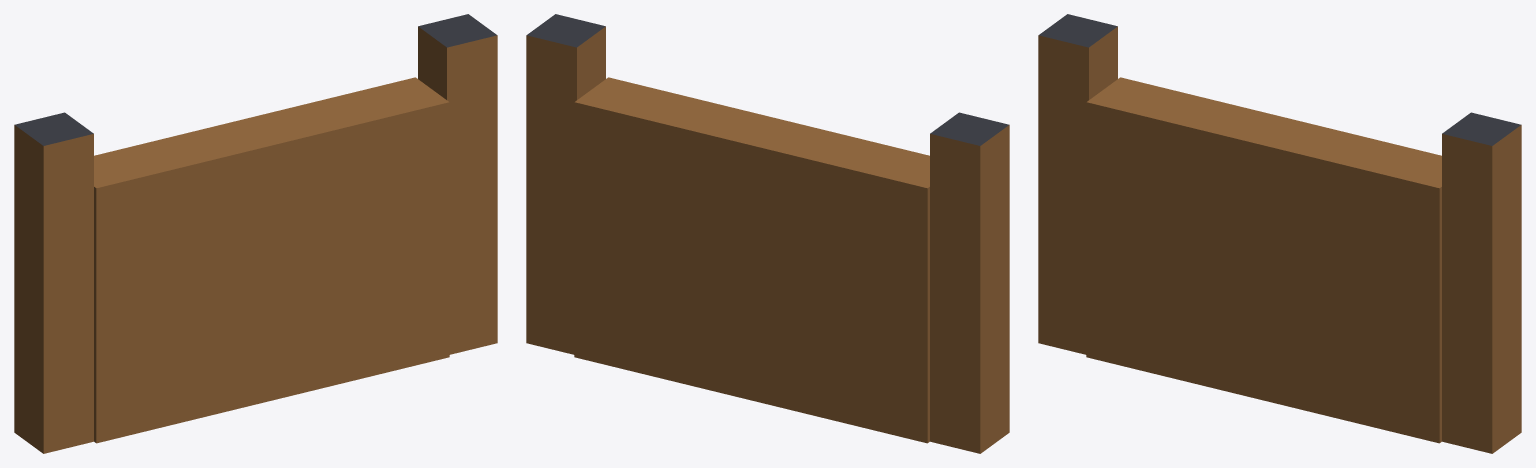
The model's file is env_door.glb.
The picture shows the model from 3 angles, left to right: view 1: azimuth 30°, elevation 25°; view 2: azimuth 150°, elevation 25°; view 3: azimuth 330°, elevation 25°; orthographic projection.
Visible parts, largest first — view 1: leaf, frame, jamb_free; view 2: leaf, frame, jamb_free; view 3: leaf, jamb_free, frame.
Part boxes in pixels (left/top/right/bottom): leaf: left=94, top=77, right=449, bottom=443; frame: left=14, top=112, right=93, bottom=453; jamb_free: left=418, top=14, right=497, bottom=354; leaf: left=574, top=77, right=929, bottom=443; frame: left=930, top=112, right=1009, bottom=453; jamb_free: left=526, top=14, right=605, bottom=354; leaf: left=1086, top=77, right=1441, bottom=443; jamb_free: left=1442, top=112, right=1521, bottom=453; frame: left=1038, top=14, right=1117, bottom=354.
Bounding box in the file's own units: 0.54 × 0.35 × 0.07.
1 material, 1 textured.
